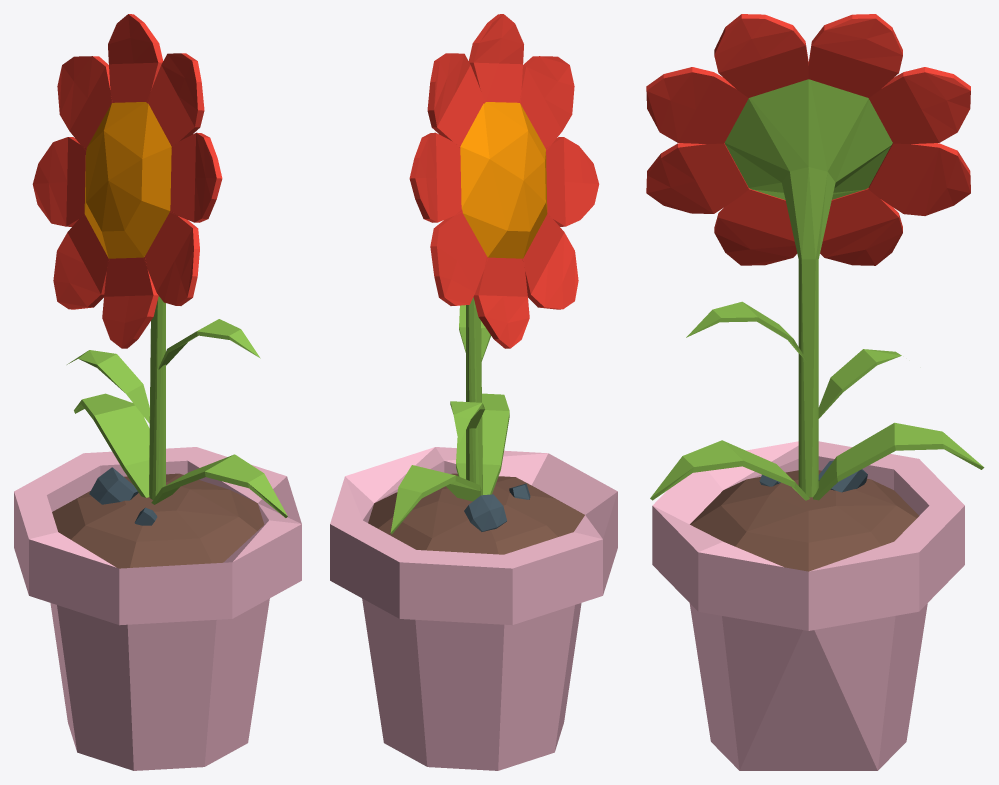
File: flower4E.glb
3 renders of one model, left to right at view 1: azimuth 30°, elevation 25°; view 2: azimuth 150°, elevation 25°; view 3: azimuth 270°, elevation 25°, orthographic. The views are drawn at different scales.
Visible parts, largest first — view 1: flower_01_Cube.007; view 2: flower_01_Cube.007; view 3: flower_01_Cube.007.
Boxes of the visible parts, x1,y1,x2,y2 form: flower_01_Cube.007: (14,14,301,770); flower_01_Cube.007: (330,14,617,770); flower_01_Cube.007: (646,14,984,770).
Bounding box in the file's own units: 76.61 × 197 × 82.87.
